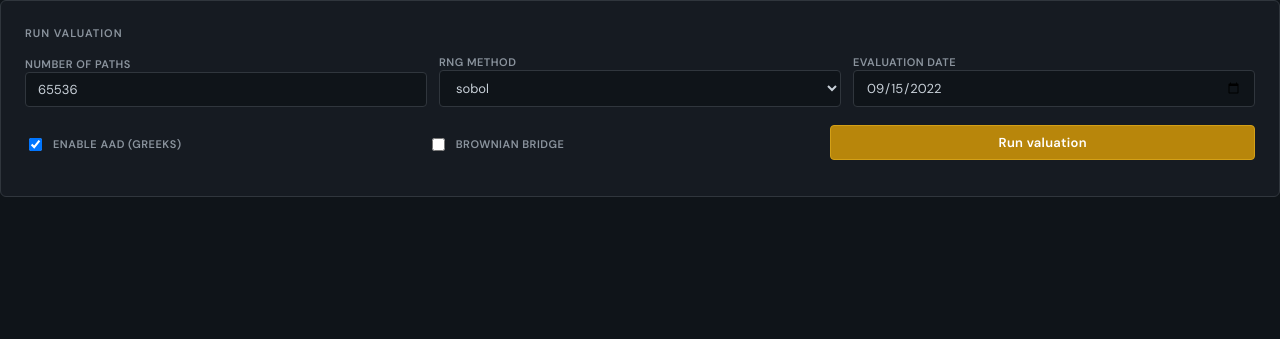
Test case: ValuationPanel › submits the configured valuation request and renders an immediately-completed result
Step 1. Replace the text in the number field labelled "Number of paths" with "2048" → point(226, 90), box top-left (25, 72), bottom-right (427, 107)
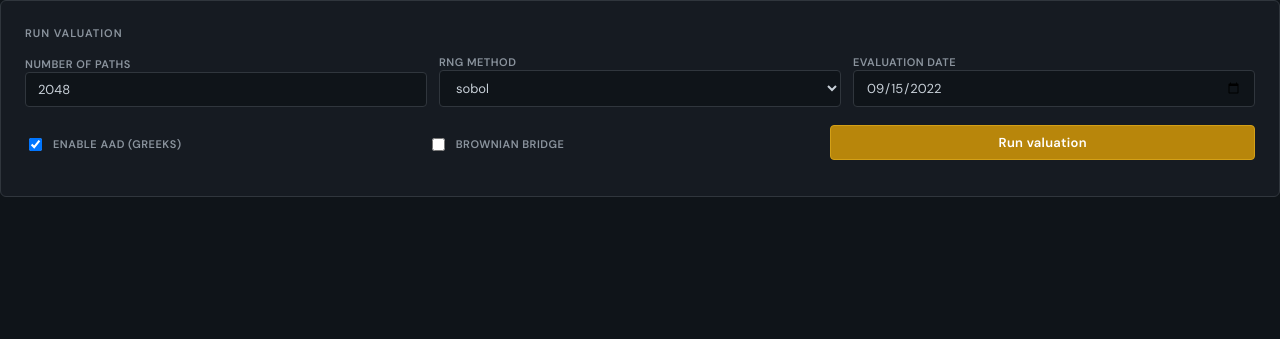
Step 2. Select "pseudo" in the dropdown labelled "RNG method" → point(640, 88), box top-left (439, 70), bottom-right (841, 107)
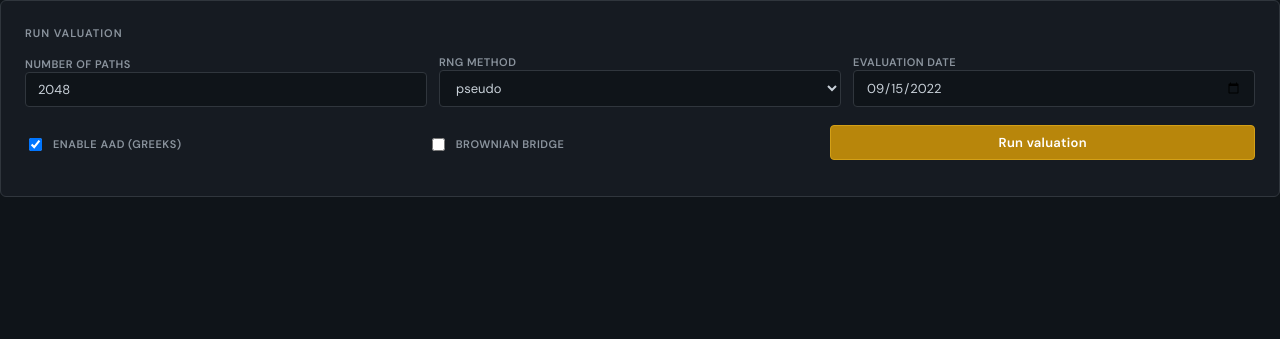
Step 3. Click the checkbox labelled "Enable AAD (Greeks)" → point(36, 144), box top-left (29, 138), bottom-right (42, 151)
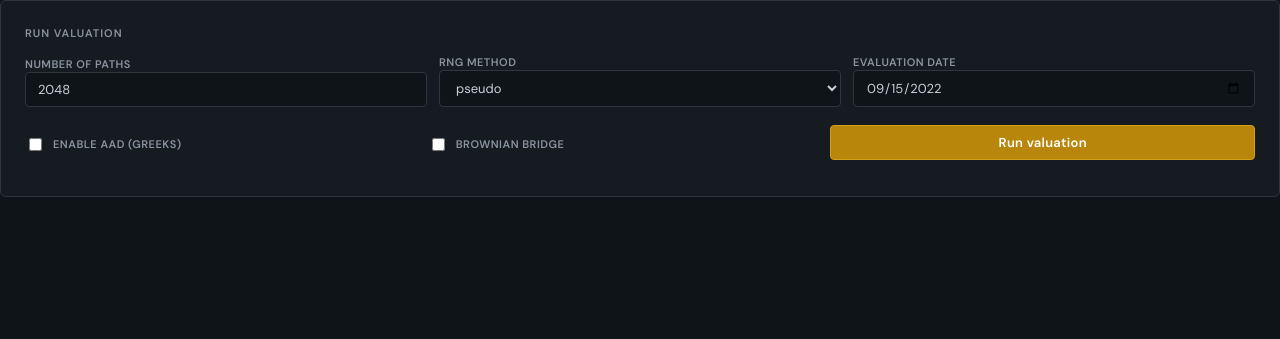
Step 4. Click the checkbox labelled "Brownian bridge" → point(438, 144), box top-left (432, 138), bottom-right (445, 151)
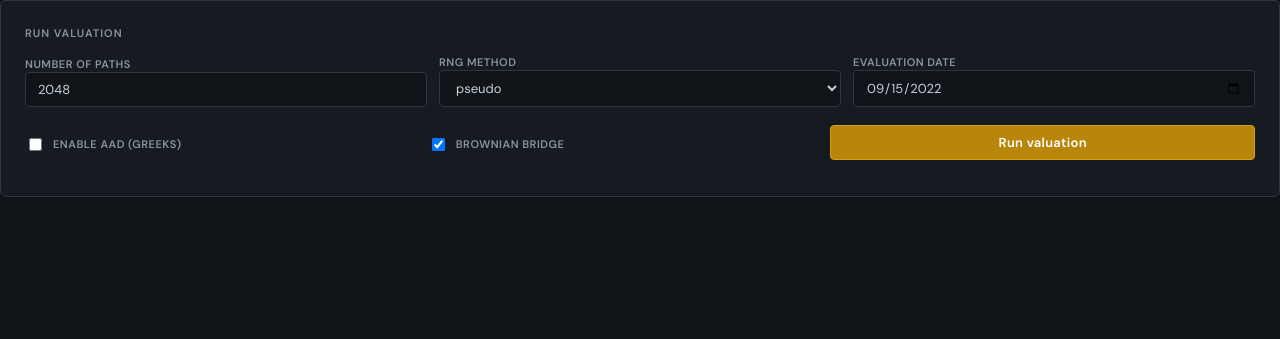
Step 5. Clear the date field labelled "Evaluation date" → point(1054, 88), box top-left (853, 70), bottom-right (1255, 107)
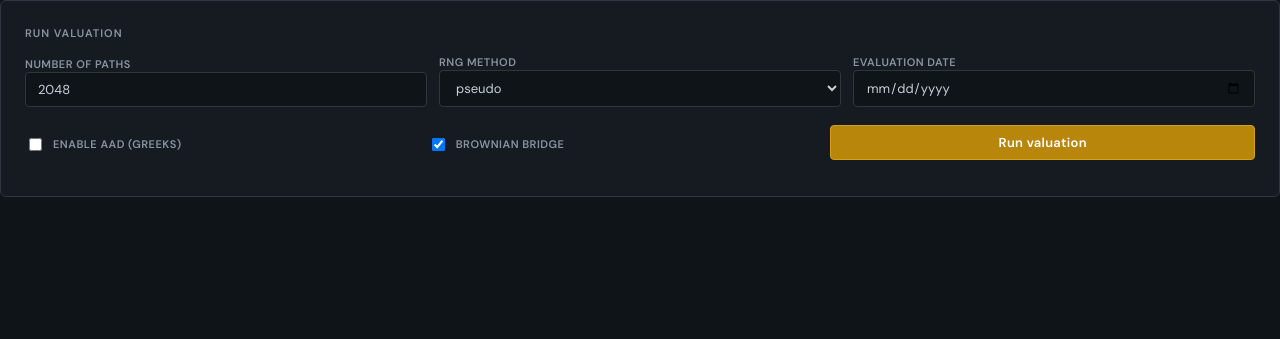
Step 6. Click the button "Run valuation" → point(1043, 142), box top-left (830, 125), bottom-right (1255, 160)
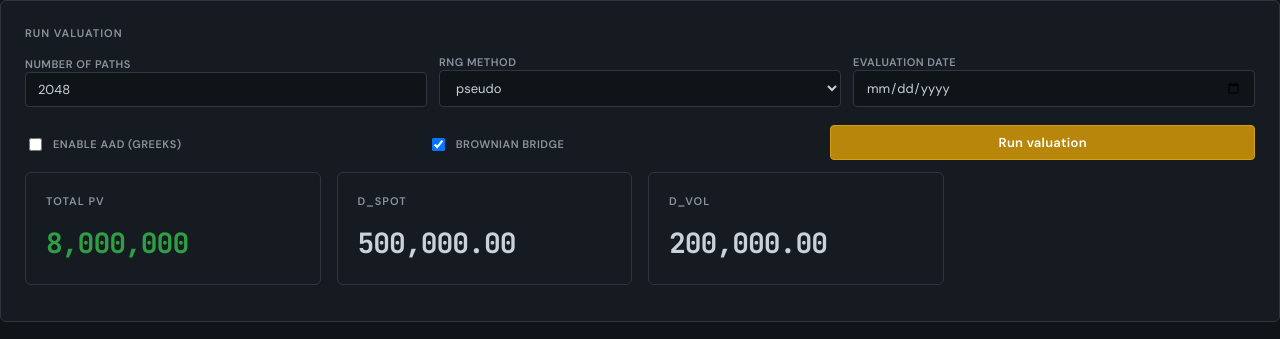
Expected: the heading "Total PV" is shown, top-left (46, 194), bottom-right (105, 208)
Expected: the heading "d_spot" is shown, top-left (358, 194), bottom-right (407, 208)
Expected: the heading "d_vol" is shown, top-left (669, 194), bottom-right (710, 208)
